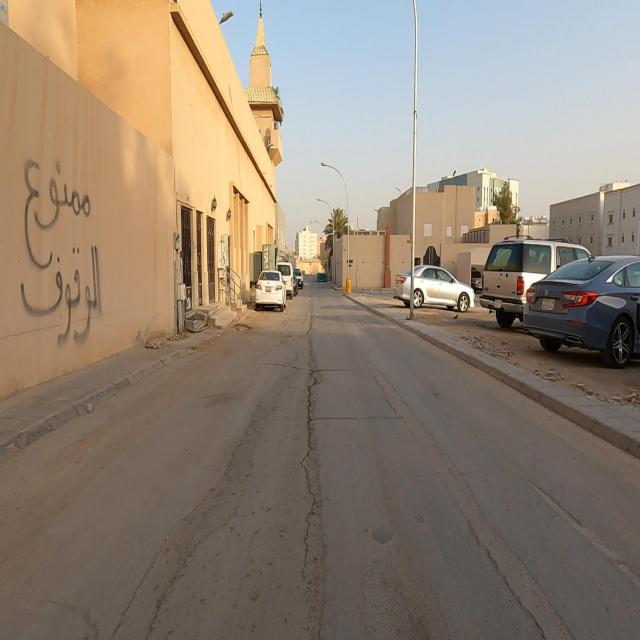Graffiti: (21, 160, 104, 346)
